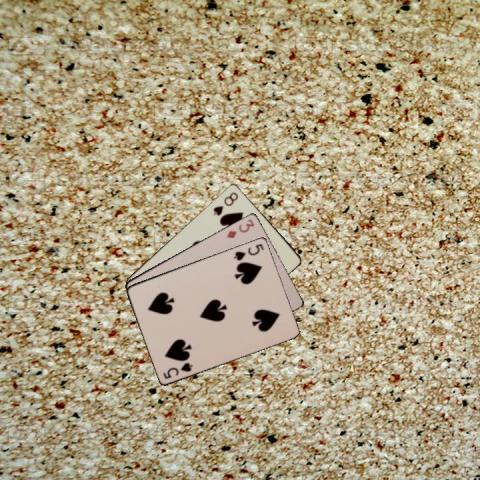3d: (223, 216, 256, 239)
5s: (231, 241, 265, 262), (160, 359, 194, 380)
8s: (210, 188, 239, 216)
